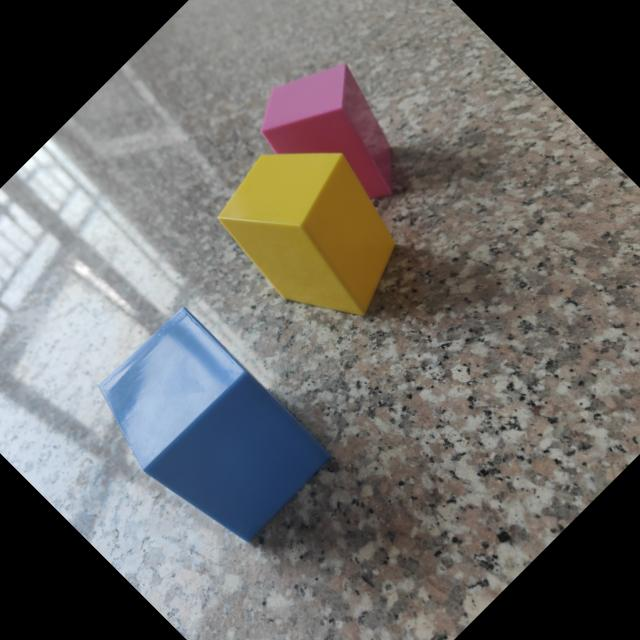blue: (101, 307, 331, 544)
pink: (261, 62, 396, 199)
yellow: (220, 150, 396, 316)
